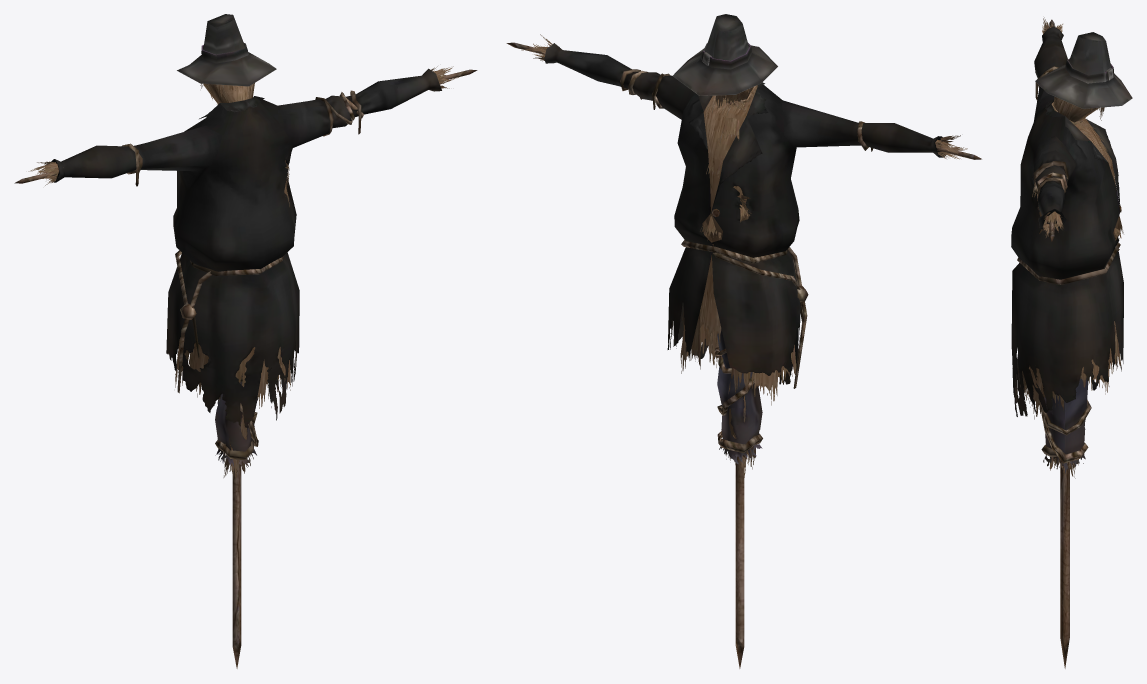
The model's file is scarecrow.glb.
3 views of the same model, side by side, from view 1: azimuth 30°, elevation 25°; view 2: azimuth 150°, elevation 25°; view 3: azimuth 270°, elevation 25° (orthographic). The views are drawn at different scales.
Parts seen in each view (by area): view 1: Object_2; view 2: Object_2; view 3: Object_2.
Part boxes in pixels (x1,y1,x2,y2): Object_2: [14, 14, 477, 668]; Object_2: [506, 14, 981, 668]; Object_2: [1011, 17, 1132, 668].
Size of the model in its own units: 1.4 by 1.85 by 0.3216.
Materials: 1 (1 with a texture image).
